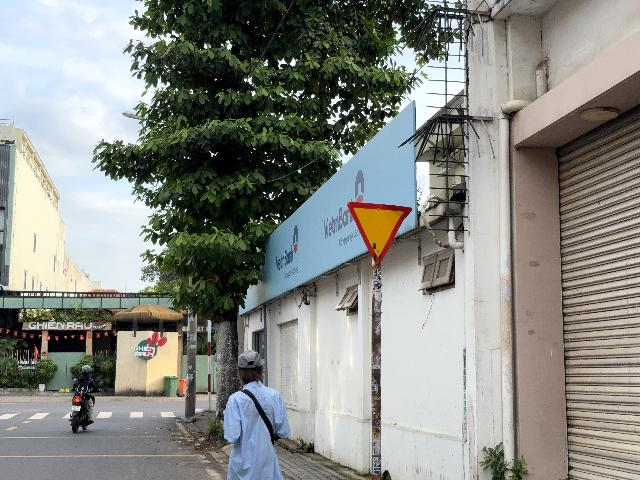giao-nhau-voi-duong-uu-tien: (347, 201, 412, 265)
